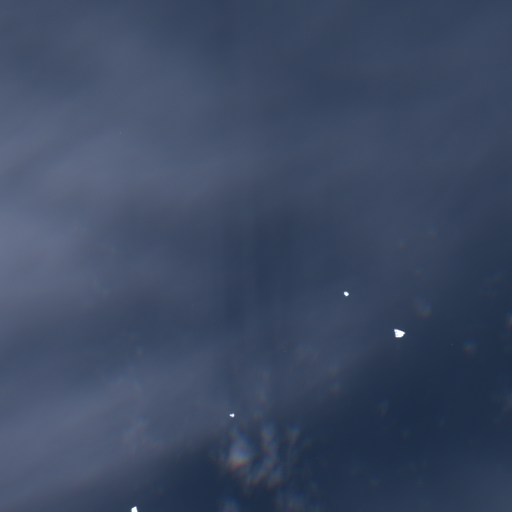Iceberg: (394, 328, 405, 337), (130, 506, 137, 511), (343, 291, 348, 296), (229, 413, 234, 417)
